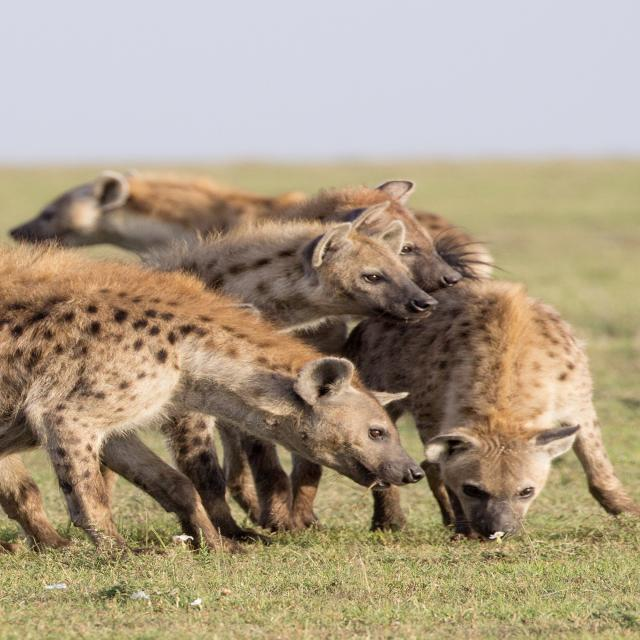Hyena: (9, 247, 438, 545), (415, 269, 619, 552)
